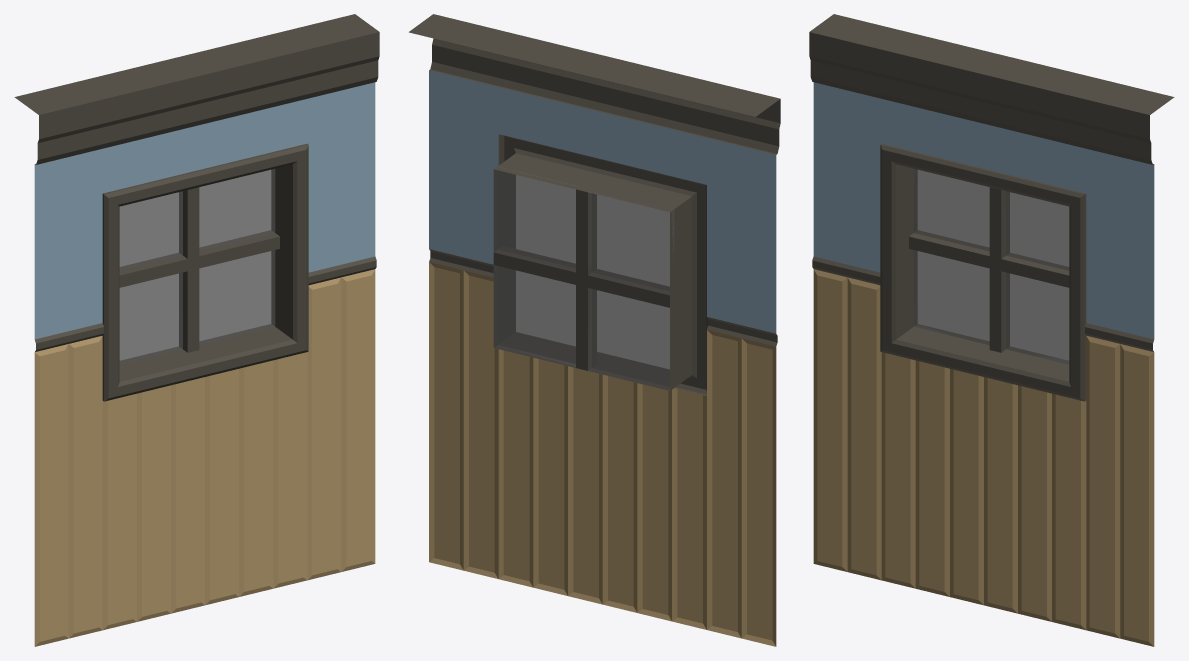
Rendered from Kitchen_Window.fbx.
The picture shows the model from 3 angles, left to right: view 1: azimuth 30°, elevation 25°; view 2: azimuth 150°, elevation 25°; view 3: azimuth 330°, elevation 25°; orthographic projection.
Visible parts, largest first — view 1: Kitchen_Window; view 2: Kitchen_Window; view 3: Kitchen_Window.
Boxes of the visible parts, <box> form: Kitchen_Window: <box>14,14,379,646</box>; Kitchen_Window: <box>409,14,780,646</box>; Kitchen_Window: <box>809,14,1174,646</box>.
Size of the model in its own units: 200 by 300 by 25.
